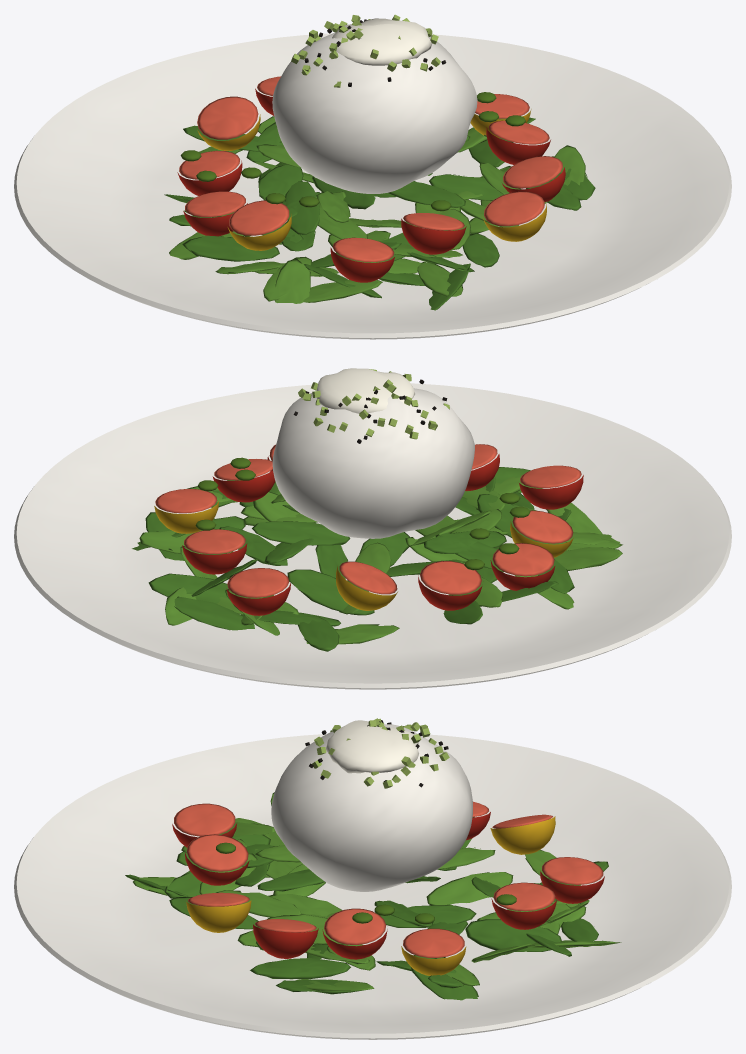
Rendered from burrata-tomates.glb.
3 renders of one model, top to bottom at view 1: azimuth 30°, elevation 25°; view 2: azimuth 150°, elevation 25°; view 3: azimuth 270°, elevation 25°, orthographic.
Parts seen in each view (by area): view 1: burrata-tomates; view 2: burrata-tomates; view 3: burrata-tomates.
Part boxes in pixels (x1=…): burrata-tomates: x1=14, y1=14, x2=731, y2=339; burrata-tomates: x1=14, y1=368, x2=731, y2=689; burrata-tomates: x1=14, y1=718, x2=731, y2=1039.
Size of the model in its own units: 0.272 by 0.0887 by 0.272.
